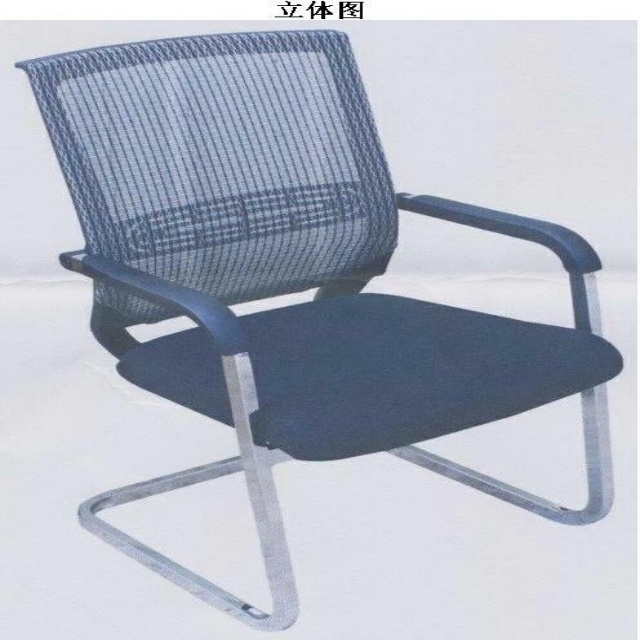obstacle: (18, 29, 621, 630)
